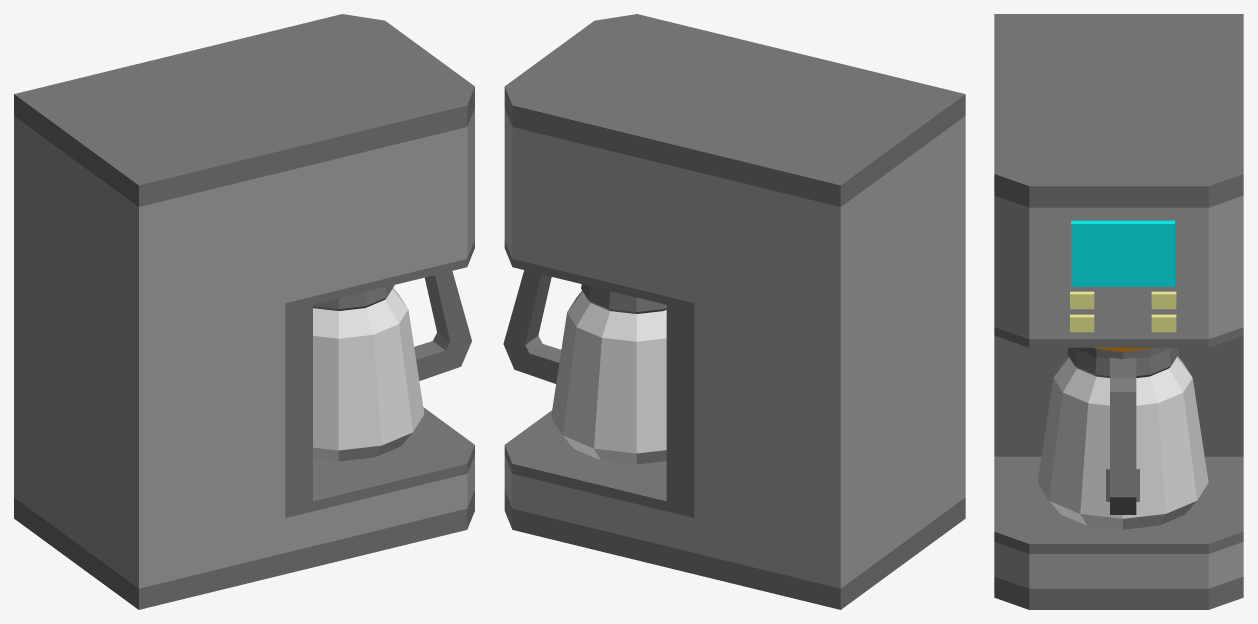
The model's file is Coffee machine.fbx.
The picture shows the model from 3 angles, left to right: view 1: azimuth 30°, elevation 25°; view 2: azimuth 150°, elevation 25°; view 3: azimuth 270°, elevation 25°; orthographic projection.
Visible parts, largest first — view 1: Coffee_Machine, Coffee_Jar; view 2: Coffee_Machine, Coffee_Jar; view 3: Coffee_Machine, Coffee_Jar.
Boxes of the visible parts, left/top/right/bottom form: Coffee_Machine: left=14, top=14, right=474, bottom=609; Coffee_Jar: left=313, top=271, right=471, bottom=461; Coffee_Machine: left=504, top=14, right=965, bottom=609; Coffee_Jar: left=503, top=270, right=666, bottom=464; Coffee_Machine: left=994, top=14, right=1243, bottom=609; Coffee_Jar: left=1037, top=347, right=1208, bottom=529.
Bounding box in the file's own units: 6.48 × 6.72 × 3.58.
